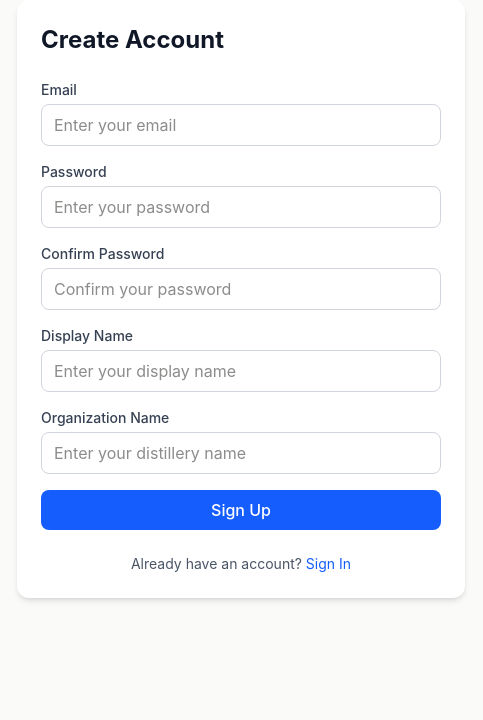
Test: SignUpForm › should show validation errors for empty fields
Step 1. Click the button "Sign Up" → coordinates (241, 510), box x1=41 y1=490 x2=441 y2=530
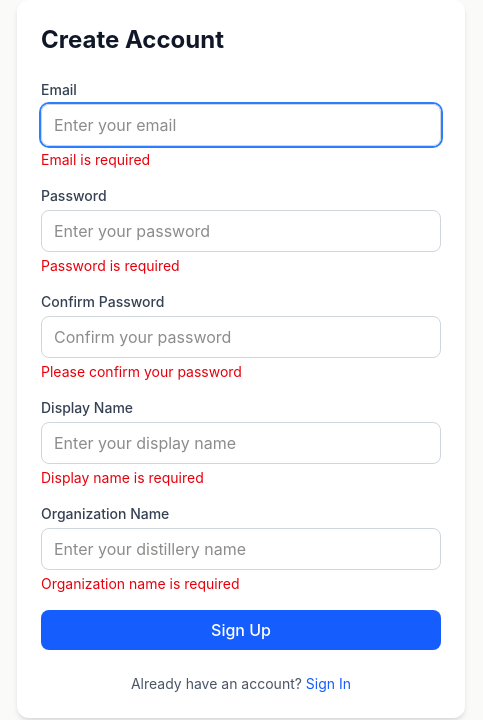
Result: the text "Email is required" is shown at x1=41 y1=151 x2=150 y2=168
Result: the text "Password is required" is shown at x1=41 y1=257 x2=180 y2=274
Result: the text "Please confirm your password" is shown at x1=41 y1=363 x2=242 y2=380
